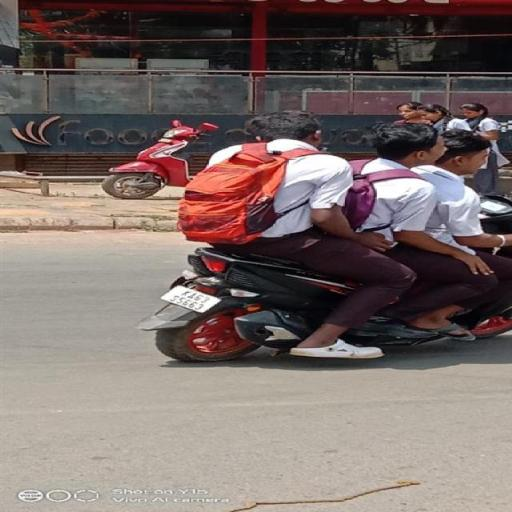tripple riding: (183, 111, 500, 252)
